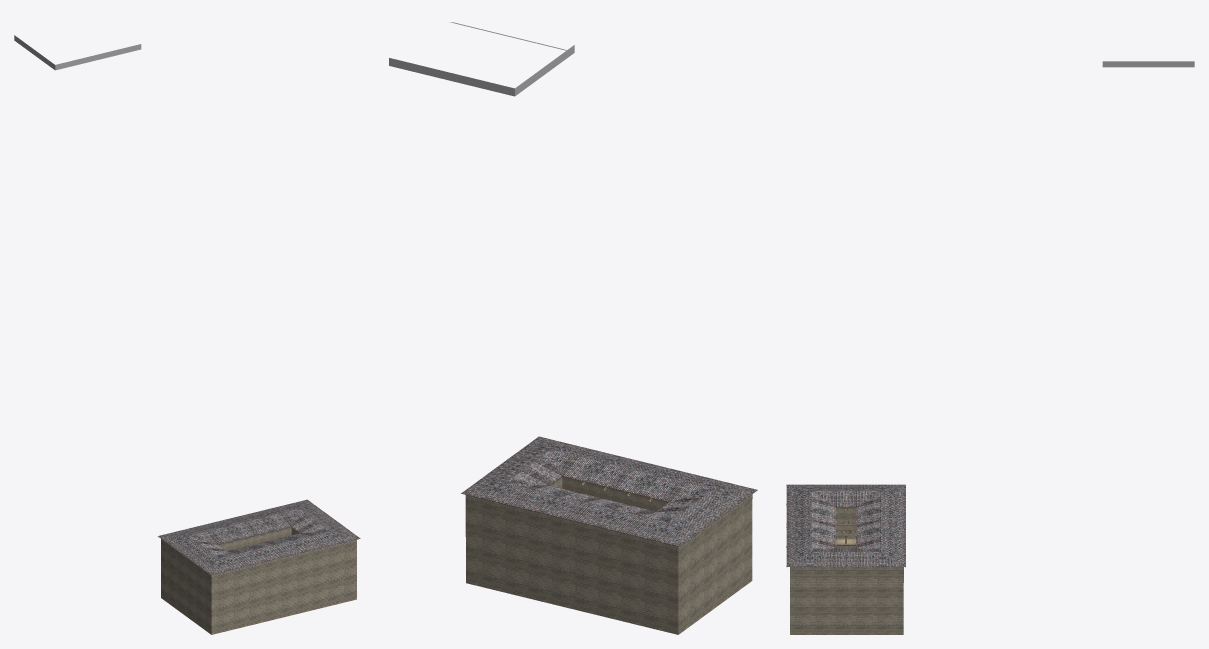
Rendered from sponza.gltf.
3 views of the same model, side by side, from view 1: azimuth 30°, elevation 25°; view 2: azimuth 150°, elevation 25°; view 3: azimuth 270°, elevation 25° (orthographic). The views are drawn at different scales.
Parts seen in each view (by area): view 1: sponza:sponza_379, sponza:sponza_380, sponza:sponza_381, sponza:sponza_257, sponza:sponza_36; view 2: sponza:sponza_379, sponza:sponza_380, sponza:sponza_381, sponza:sponza_257, sponza:sponza_36; view 3: sponza:sponza_379, sponza:sponza_380, sponza:sponza_381, sponza:sponza_257.
Boxes of the visible parts, x1,y1,x2,y2 form: sponza:sponza_379: (161, 539, 356, 634); sponza:sponza_380: (158, 499, 360, 574); sponza:sponza_381: (189, 509, 329, 558); sponza:sponza_257: (14, 35, 141, 70); sponza:sponza_36: (219, 527, 299, 550); sponza:sponza_379: (465, 494, 752, 634); sponza:sponza_380: (461, 436, 757, 546); sponza:sponza_381: (506, 450, 712, 522); sponza:sponza_257: (389, 22, 574, 96); sponza:sponza_36: (550, 476, 668, 511); sponza:sponza_379: (790, 567, 903, 634); sponza:sponza_380: (786, 484, 905, 567); sponza:sponza_381: (811, 491, 880, 551); sponza:sponza_257: (1102, 61, 1194, 67).
Bounding box in the file's own units: 213 × 583 × 406.
Materials: 18 (17 with a texture image).
